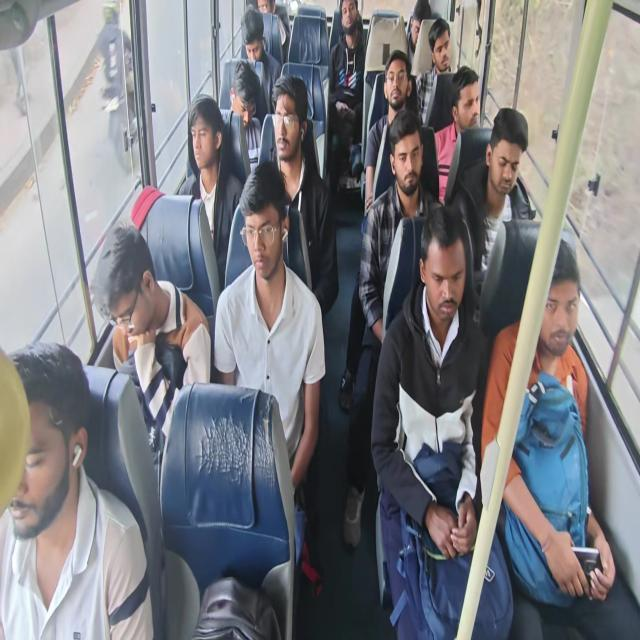person: (1, 1, 635, 638), (480, 231, 639, 638), (371, 203, 514, 638), (0, 341, 154, 638), (341, 108, 442, 549), (213, 160, 326, 498), (93, 221, 211, 495), (268, 74, 339, 315), (450, 106, 532, 302), (176, 95, 244, 291), (362, 49, 421, 216), (327, 0, 365, 188), (433, 65, 481, 205), (240, 5, 282, 115), (415, 17, 453, 125), (228, 58, 262, 170), (256, 0, 289, 62), (406, 0, 431, 67)
